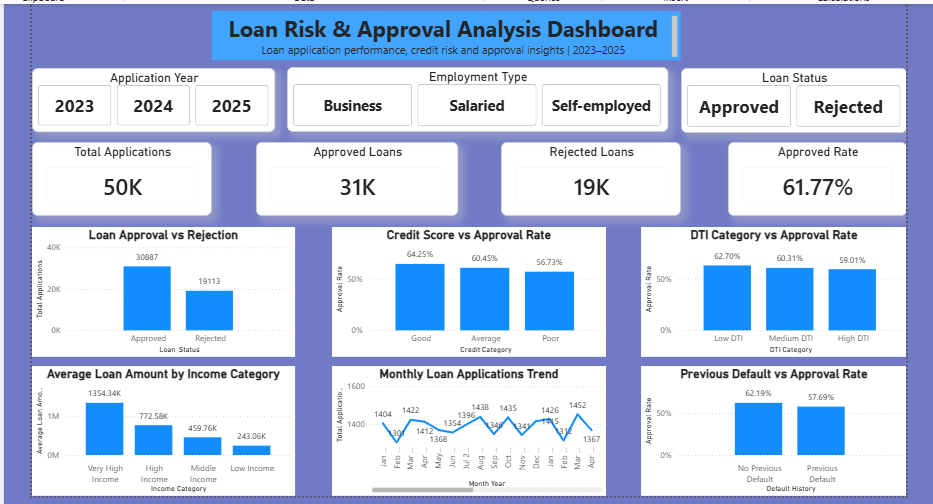

The page's visual inventory and layout, read from the dashboard file:
{"tool":"powerbi","page":{"name":"Page 1","canvas":[1280,720],"ordinal":0},"visuals":[{"type":"cardVisual","title":"Total Applications","fields":{"Data":["loan_risk_cleaned.Total Applications"]},"box":[0,202,263.4,108.3],"z":0},{"type":"cardVisual","title":"Approved Loans","fields":{"Data":["loan_risk_cleaned.Approved Loans"]},"box":[327.8,202,295.6,108.3],"z":1000},{"type":"cardVisual","title":"Rejected Loans","fields":{"Data":["loan_risk_cleaned.Rejected Loans"]},"box":[686.3,202,263.4,108.3],"z":2000},{"type":"cardVisual","title":"Approved Rate","fields":{"Data":["loan_risk_cleaned.Approval Rate"]},"box":[1018.5,202,262,108.3],"z":3000},{"type":"clusteredColumnChart","title":"Loan Approval vs Rejection","fields":{"Category":["loan_risk_cleaned.Loan_Status"],"Y":["loan_risk_cleaned.Total Applications"]},"box":[0,326.3,384.9,190.2],"z":4000},{"type":"clusteredColumnChart","title":"Credit Score vs Approval Rate","fields":{"Category":["loan_risk_cleaned.Credit Category"],"Y":["loan_risk_cleaned.Approval Rate"]},"box":[439,326.3,401,190.2],"z":5000},{"type":"clusteredColumnChart","title":"DTI Category vs Approval Rate","fields":{"Category":["loan_risk_cleaned.DTI Category"],"Y":["loan_risk_cleaned.Approval Rate"]},"box":[891.2,326.3,389.3,190.2],"z":6000},{"type":"clusteredColumnChart","title":"Previous Default vs Approval Rate","fields":{"Category":["loan_risk_cleaned.Default History"],"Y":["loan_risk_cleaned.Approval Rate"]},"box":[891.2,529.8,389.3,190.2],"z":7000},{"type":"clusteredColumnChart","title":"Average Loan Amount by Income Category","fields":{"Category":["loan_risk_cleaned.Income Category"],"Y":["loan_risk_cleaned.Average Loan Amount"]},"box":[0,529.8,384.9,190.2],"z":8000},{"type":"lineChart","title":"Monthly Loan Applications Trend","fields":{"Category":["loan_risk_cleaned.Month Year"],"Y":["loan_risk_cleaned.Total Applications"]},"box":[439,529.8,401,190.2],"z":9000},{"type":"textbox","box":[263.4,10.2,686.3,71.7],"z":10000},{"type":"advancedSlicerVisual","title":"Application Year","fields":{"Values":["loan_risk_cleaned.Application_Date.Variation.Date Hierarchy.Year"]},"box":[0,93.7,355.6,93.7],"z":11000},{"type":"advancedSlicerVisual","title":"Employment Type","fields":{"Values":["loan_risk_cleaned.Employment_Type"]},"box":[373.2,92.2,557.6,95.1],"z":12000},{"type":"advancedSlicerVisual","title":"Loan Status","fields":{"Values":["loan_risk_cleaned.Loan_Status"]},"box":[949.8,93.7,330.7,95.1],"z":13000}]}

Visuals, with their boxes in screenshot pixels (x1, y1, x2, y2):
"Total Applications" cardVisual: bbox=(27, 139, 208, 214)
"Approved Loans" cardVisual: bbox=(253, 139, 456, 214)
"Rejected Loans" cardVisual: bbox=(500, 139, 681, 214)
"Approved Rate" cardVisual: bbox=(728, 139, 909, 214)
"Loan Approval vs Rejection" clusteredColumnChart: bbox=(27, 225, 292, 356)
"Credit Score vs Approval Rate" clusteredColumnChart: bbox=(329, 225, 605, 356)
"DTI Category vs Approval Rate" clusteredColumnChart: bbox=(641, 225, 909, 356)
"Previous Default vs Approval Rate" clusteredColumnChart: bbox=(641, 365, 909, 496)
"Average Loan Amount by Income Category" clusteredColumnChart: bbox=(27, 365, 292, 496)
"Monthly Loan Applications Trend" lineChart: bbox=(329, 365, 605, 496)
textbox: bbox=(208, 7, 681, 56)
"Application Year" advancedSlicerVisual: bbox=(27, 65, 272, 129)
"Employment Type" advancedSlicerVisual: bbox=(284, 64, 668, 129)
"Loan Status" advancedSlicerVisual: bbox=(681, 65, 909, 130)
